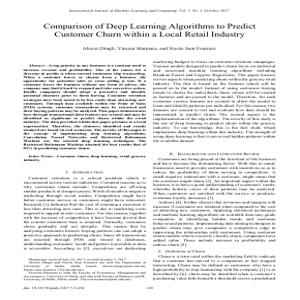text: (151, 58, 281, 284), (19, 153, 149, 283), (20, 60, 148, 152), (38, 19, 258, 39)
